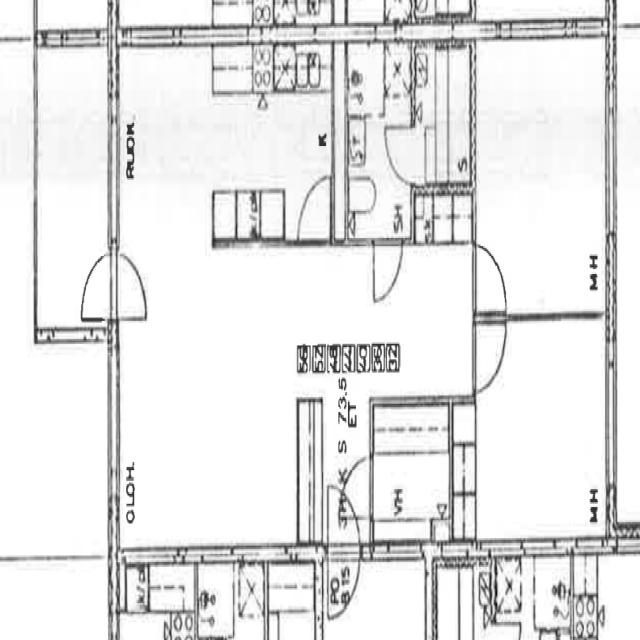door: (326, 477, 362, 618), (471, 314, 510, 396), (296, 169, 333, 246), (113, 250, 151, 324), (473, 240, 510, 316), (77, 249, 114, 324), (334, 452, 372, 524), (371, 238, 403, 306), (383, 121, 414, 186)
window: (104, 335, 125, 499), (106, 94, 125, 252), (604, 333, 620, 484), (374, 535, 426, 573)
zone: (115, 28, 333, 545), (473, 35, 610, 319), (472, 312, 610, 547), (333, 40, 412, 237), (369, 407, 453, 547), (413, 43, 473, 191), (577, 554, 640, 640), (528, 551, 573, 640)
